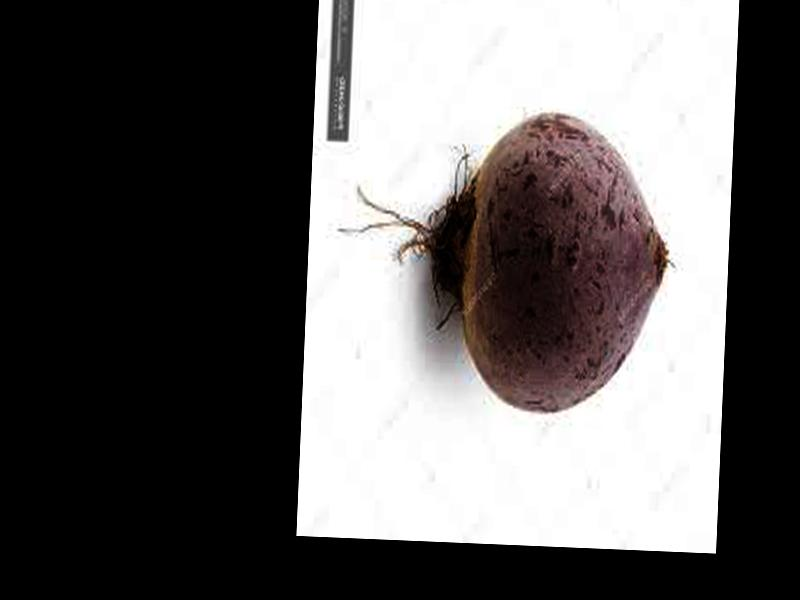Beet: (329, 101, 676, 419)
